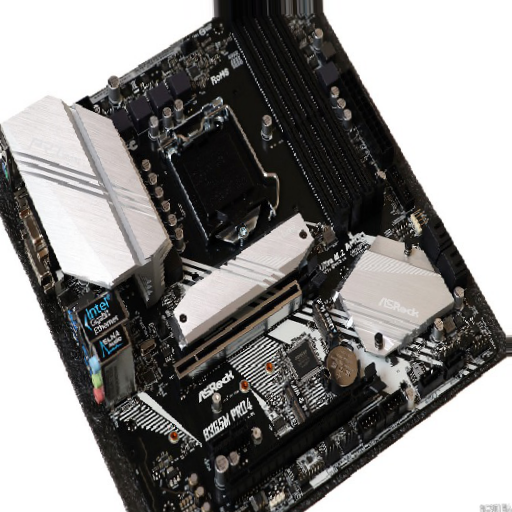CPU: (153, 98, 282, 249)
GPU: (223, 376, 388, 498), (169, 279, 304, 384)
MOTHERBOARD: (1, 2, 507, 512)
RAM: (225, 3, 384, 235)
SSD: (310, 297, 340, 346), (283, 377, 313, 421)
